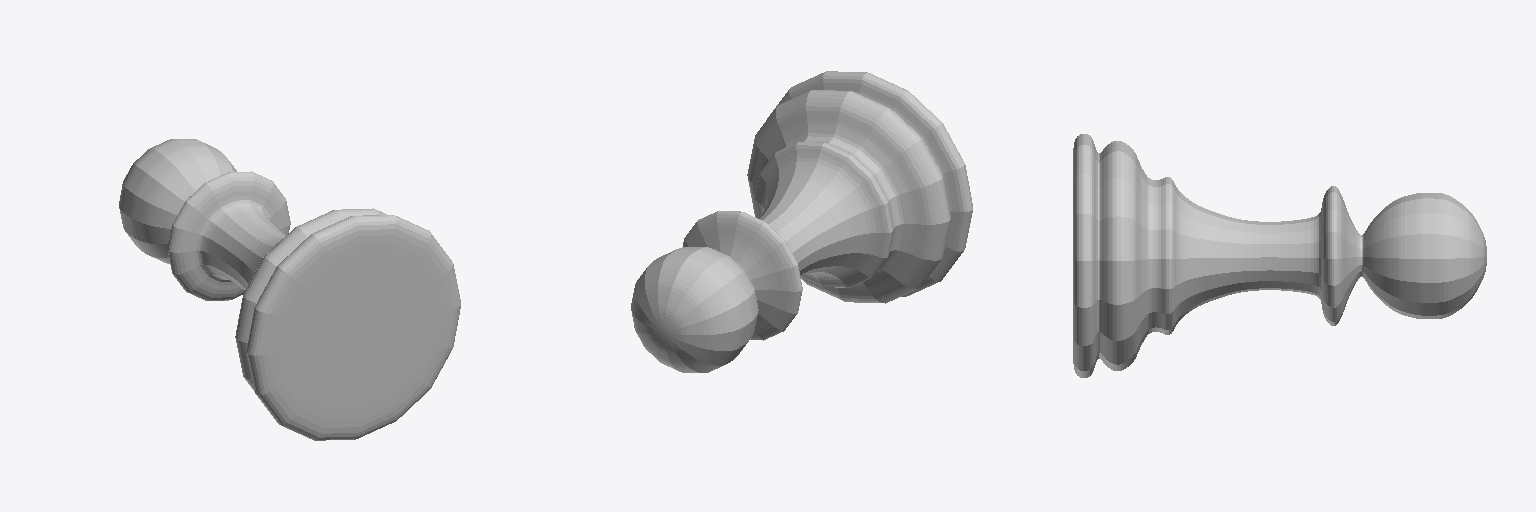
The model's file is pawn.obj.
3 renders of one model, left to right at view 1: azimuth 30°, elevation 25°; view 2: azimuth 150°, elevation 25°; view 3: azimuth 270°, elevation 25°, orthographic.
Parts seen in each view (by area): view 1: polyToSubd1; view 2: polyToSubd1; view 3: polyToSubd1.
Boxes of the visible parts, x1,y1,x2,y2 form: polyToSubd1: [119, 139, 460, 440]; polyToSubd1: [631, 71, 972, 372]; polyToSubd1: [1073, 134, 1486, 377].
Bounding box in the file's own units: 0.8375 × 0.8375 × 1.41.